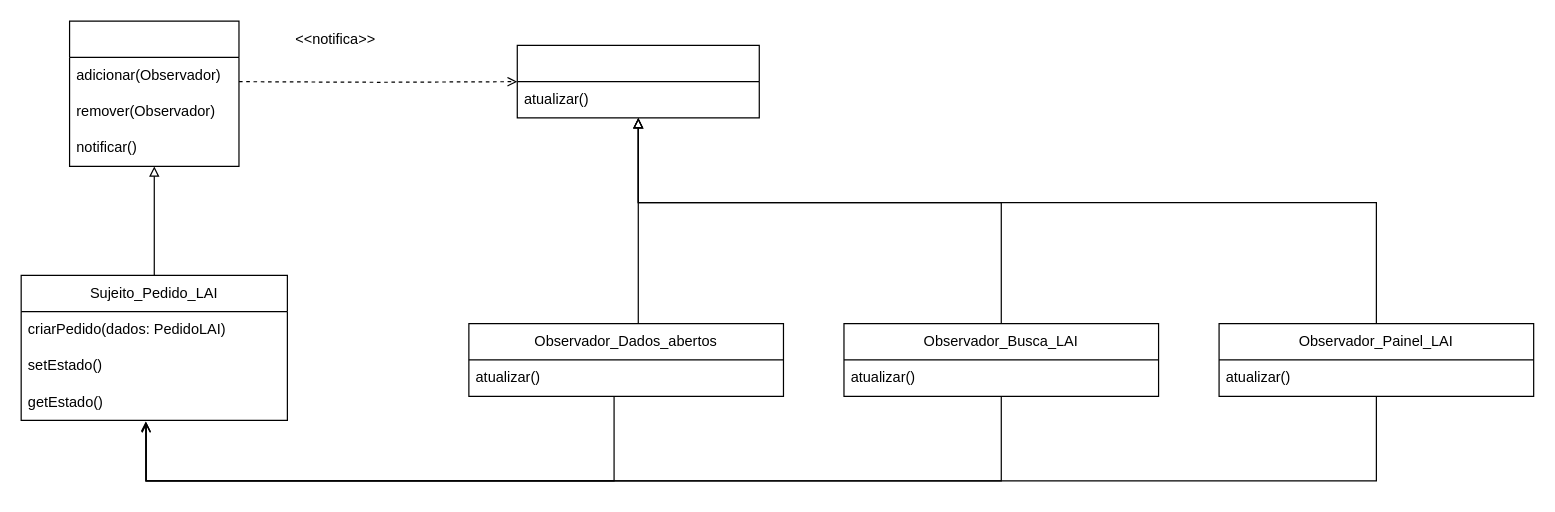
The diagram is 1555 pixels wide and 512 high, and some of its shapes have lost their labels. The shapes that lost their labels are listed below. From the top down, each one's box as (x1, y1, x2, y2) in pixels, then its label:
(68, 20, 239, 166): << Abstract>> Sujeito
(516, 44, 759, 118): << Abstract>> Observador
